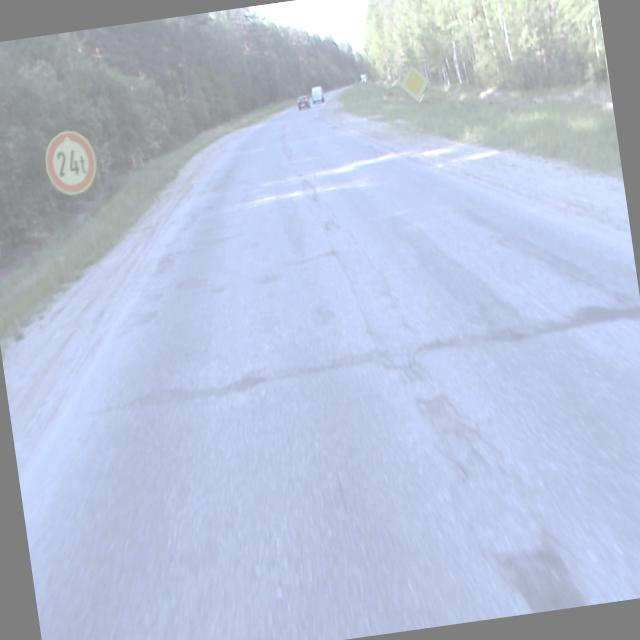road: (19, 97, 640, 640)
